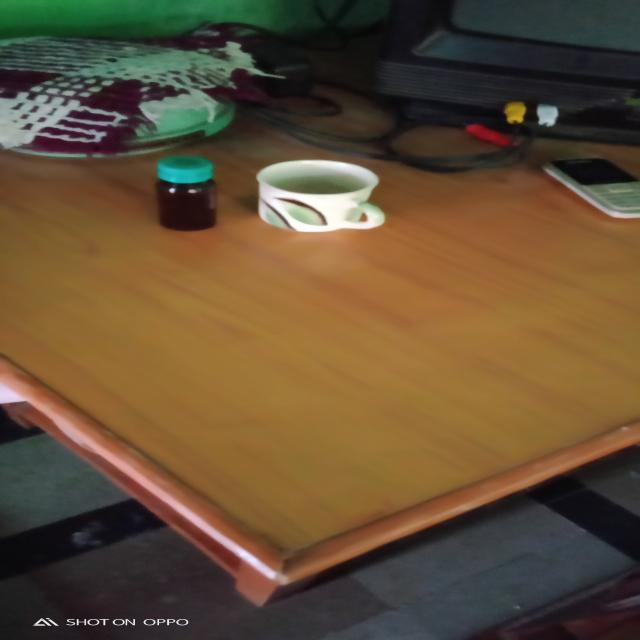bottle: (141, 155, 222, 234)
glass: (256, 159, 389, 233)
